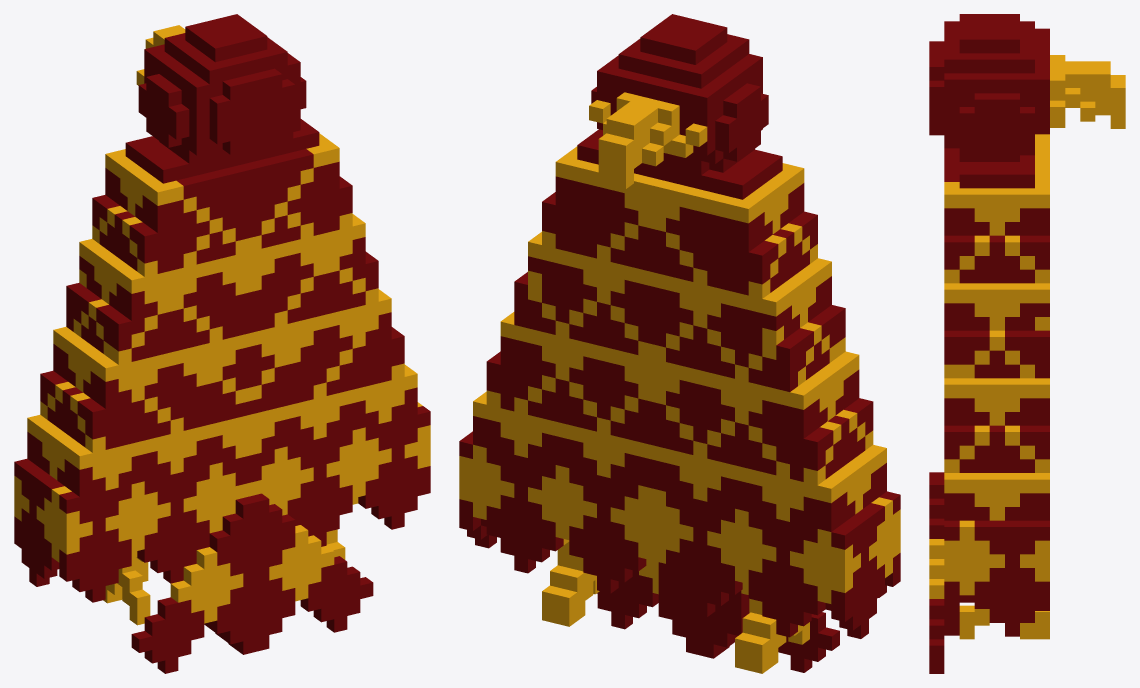
Rendered from Eagle.obj.
The picture shows the model from 3 angles, left to right: view 1: azimuth 30°, elevation 25°; view 2: azimuth 150°, elevation 25°; view 3: azimuth 270°, elevation 25°; orthographic projection. The views are drawn at different scales.
Size of the model in its own units: 28 by 44 by 13.
1 material, 1 textured.
